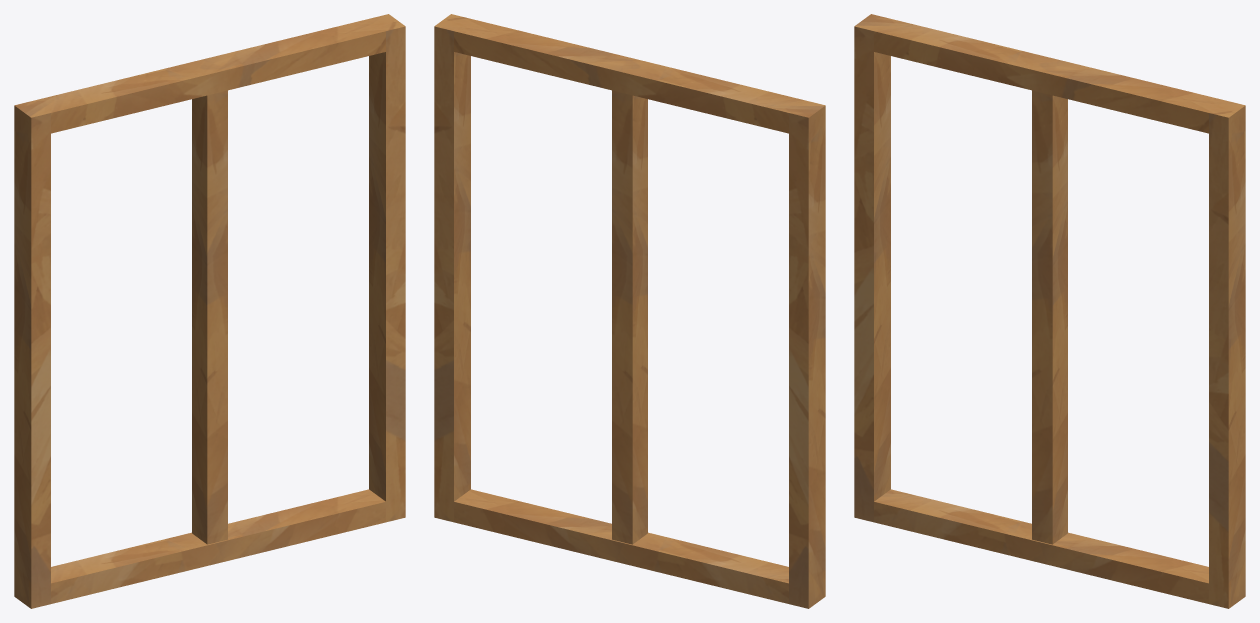
Rendered from WindowSash.fbx.
3 renders of one model, left to right at view 1: azimuth 30°, elevation 25°; view 2: azimuth 150°, elevation 25°; view 3: azimuth 330°, elevation 25°, orthographic.
Visible parts, largest first — view 1: WindowSash; view 2: WindowSash; view 3: WindowSash.
Boxes of the visible parts, bbox=[...] form: WindowSash: bbox=[14, 14, 405, 608]; WindowSash: bbox=[434, 14, 825, 608]; WindowSash: bbox=[854, 14, 1245, 608].
Size of the model in its own units: 0.778 by 0.975 by 0.061.
